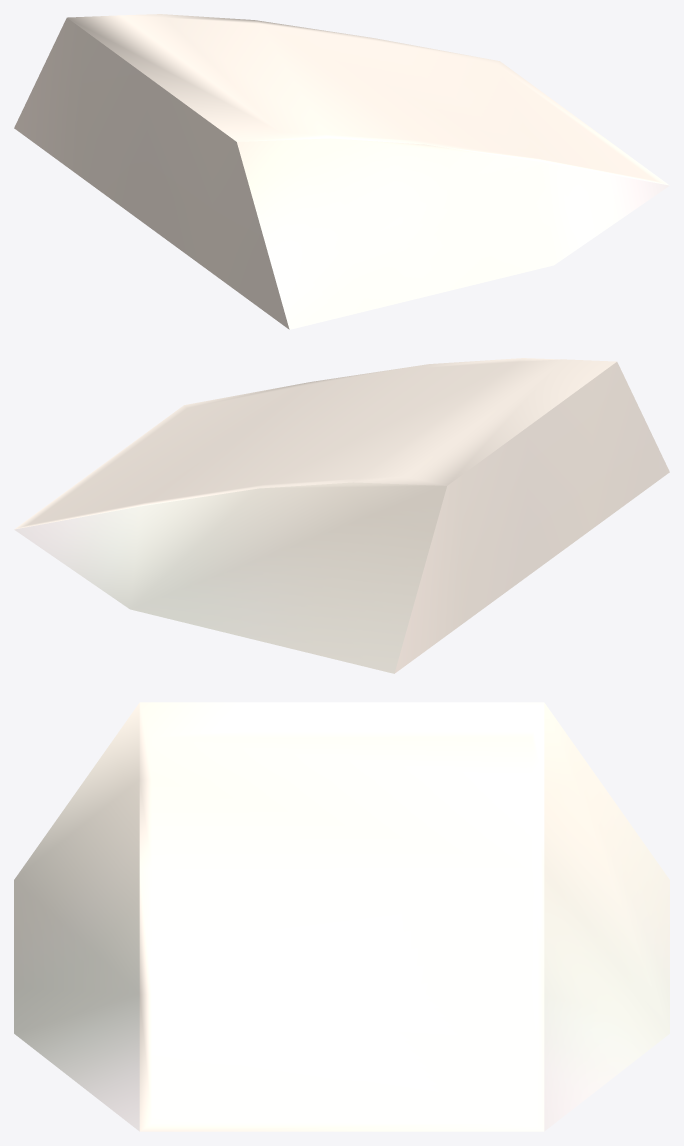
File: SnowmobileTrackJumpLanding.glb
The picture shows the model from 3 angles, top to bottom: view 1: azimuth 30°, elevation 25°; view 2: azimuth 150°, elevation 25°; view 3: azimuth 270°, elevation 25°; orthographic projection. The views are drawn at different scales.
Parts seen in each view (by area): view 1: SnowmobileTrackJumpLanding; view 2: SnowmobileTrackJumpLanding; view 3: SnowmobileTrackJumpLanding.
Part boxes in pixels (x1,y1,x2,y2): SnowmobileTrackJumpLanding: (14, 14, 669, 329); SnowmobileTrackJumpLanding: (14, 358, 669, 673); SnowmobileTrackJumpLanding: (14, 702, 669, 1131).
Bounding box in the file's own units: 5.89 × 1.94 × 6.49.
1 material, 1 textured.
